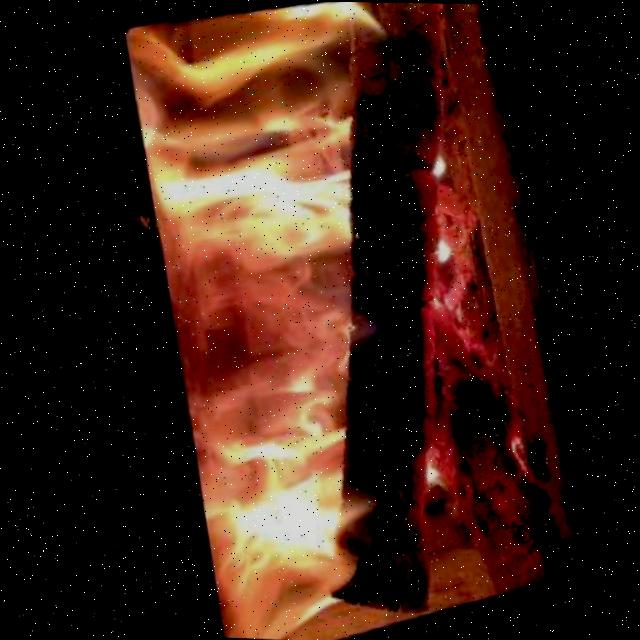fire: (116, 0, 457, 640)
